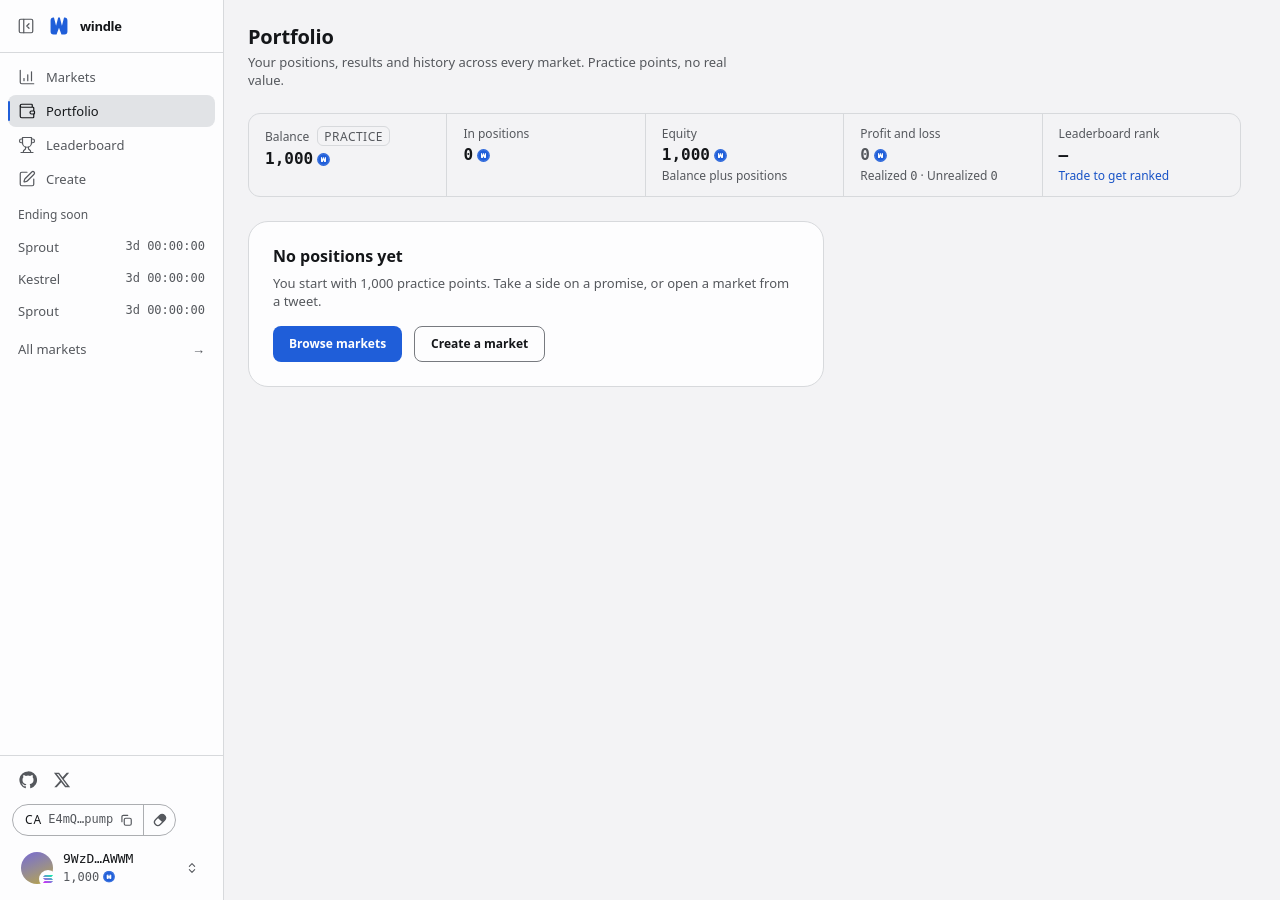
it: shell and pages › sign out failure keeps the session and says so
Expected: the heading "Portfolio" is shown, [248,23,334,50]
Step 1. Press Enter in the button "9WzD…AWWM 1,000", box [8,844,215,892]
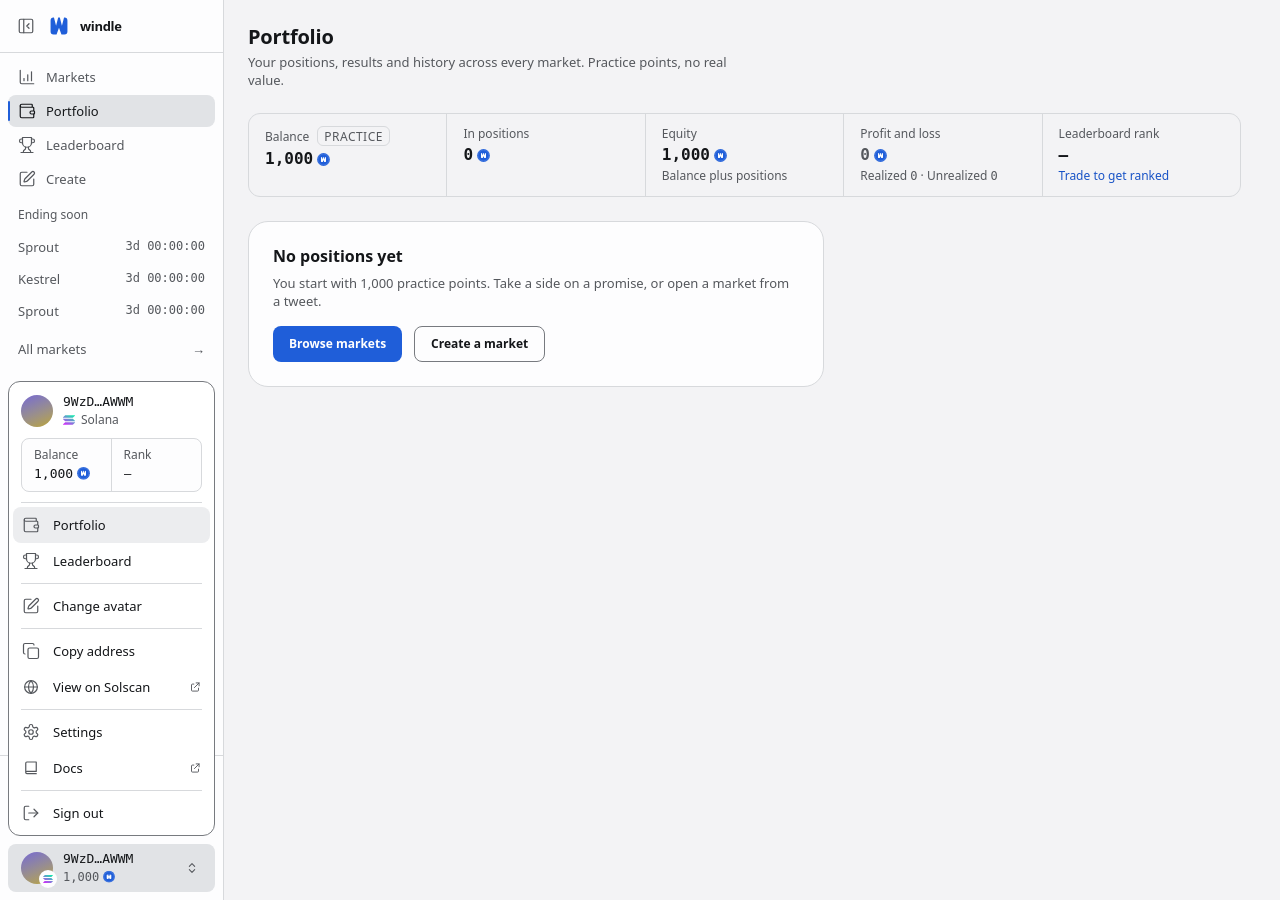
Step 2. Click the menu item "Sign out" → click(63, 813), box [22,804,104,822]
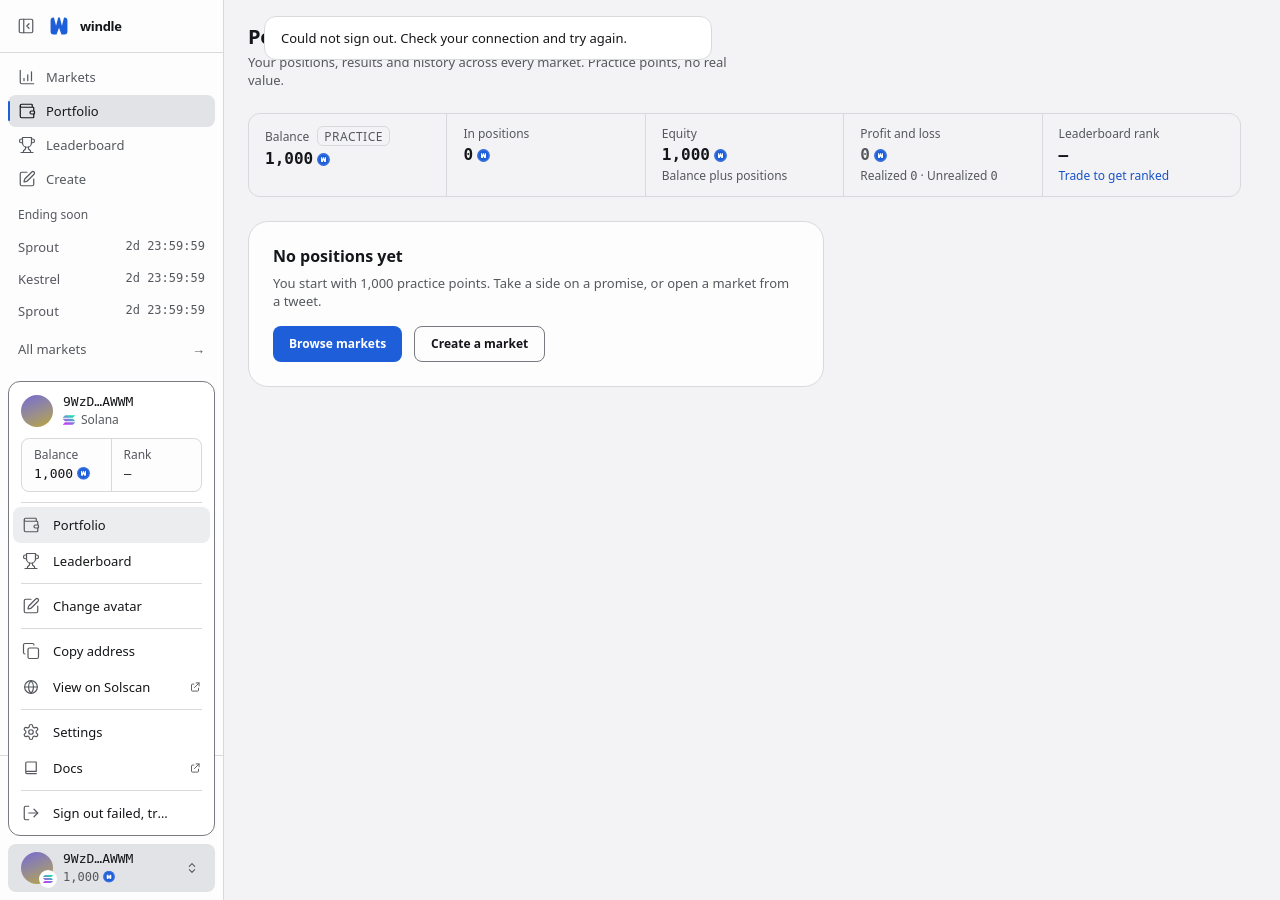
Expected: the text "Could not sign out. Check your connection and try again." is shown, [264,16,712,60]
